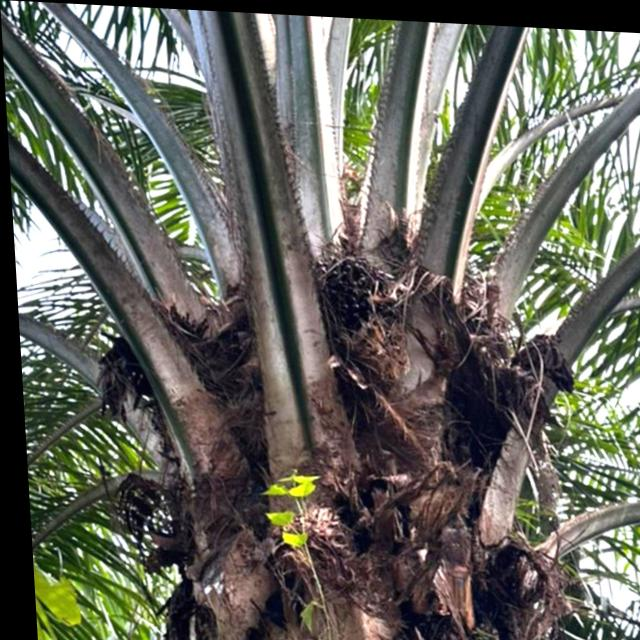unripe: (295, 235, 431, 416)
